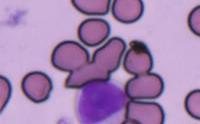L: (75, 78, 128, 124)
